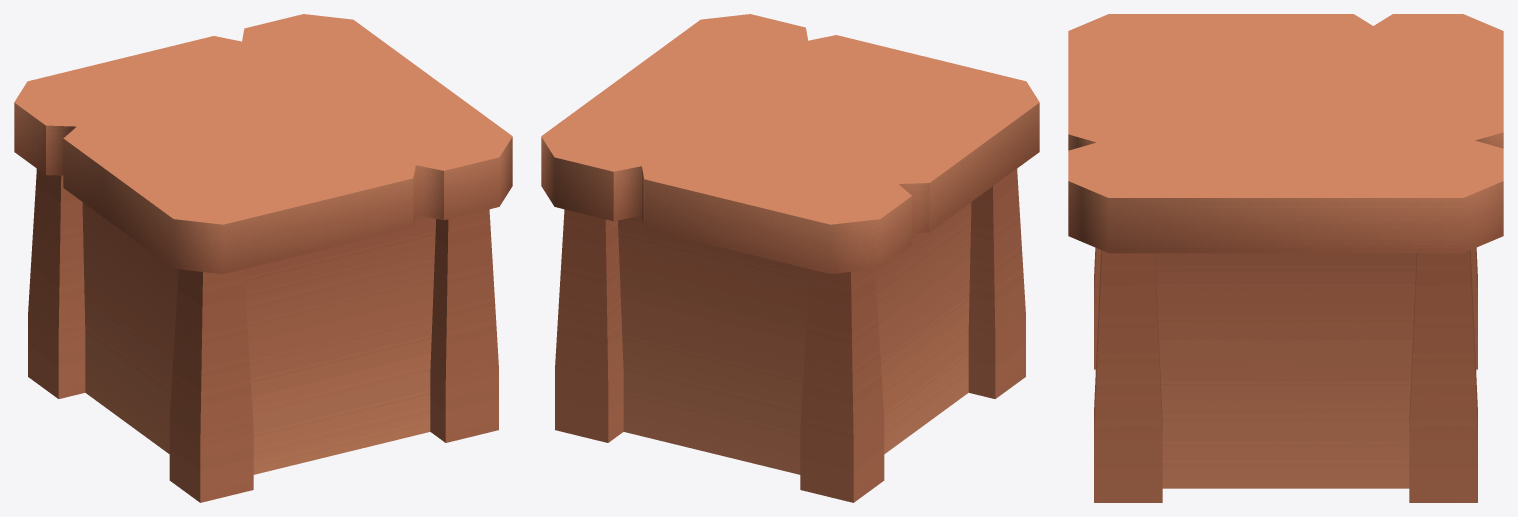
File: workbench_lev3.glb
The picture shows the model from 3 angles, left to right: view 1: azimuth 30°, elevation 25°; view 2: azimuth 150°, elevation 25°; view 3: azimuth 270°, elevation 25°; orthographic projection. The views are drawn at different scales.
Visible parts, largest first — view 1: workbench_lev3; view 2: workbench_lev3; view 3: workbench_lev3.
Boxes of the visible parts, bbox=[...] form: workbench_lev3: bbox=[14, 14, 512, 502]; workbench_lev3: bbox=[541, 14, 1039, 502]; workbench_lev3: bbox=[1068, 14, 1503, 502].
Bounding box in the file's own units: 2.54 × 2.03 × 2.54.
Materials: 1 (1 with a texture image).
